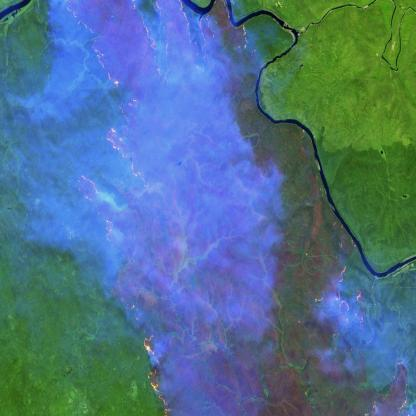fire: (59, 0, 249, 416)
